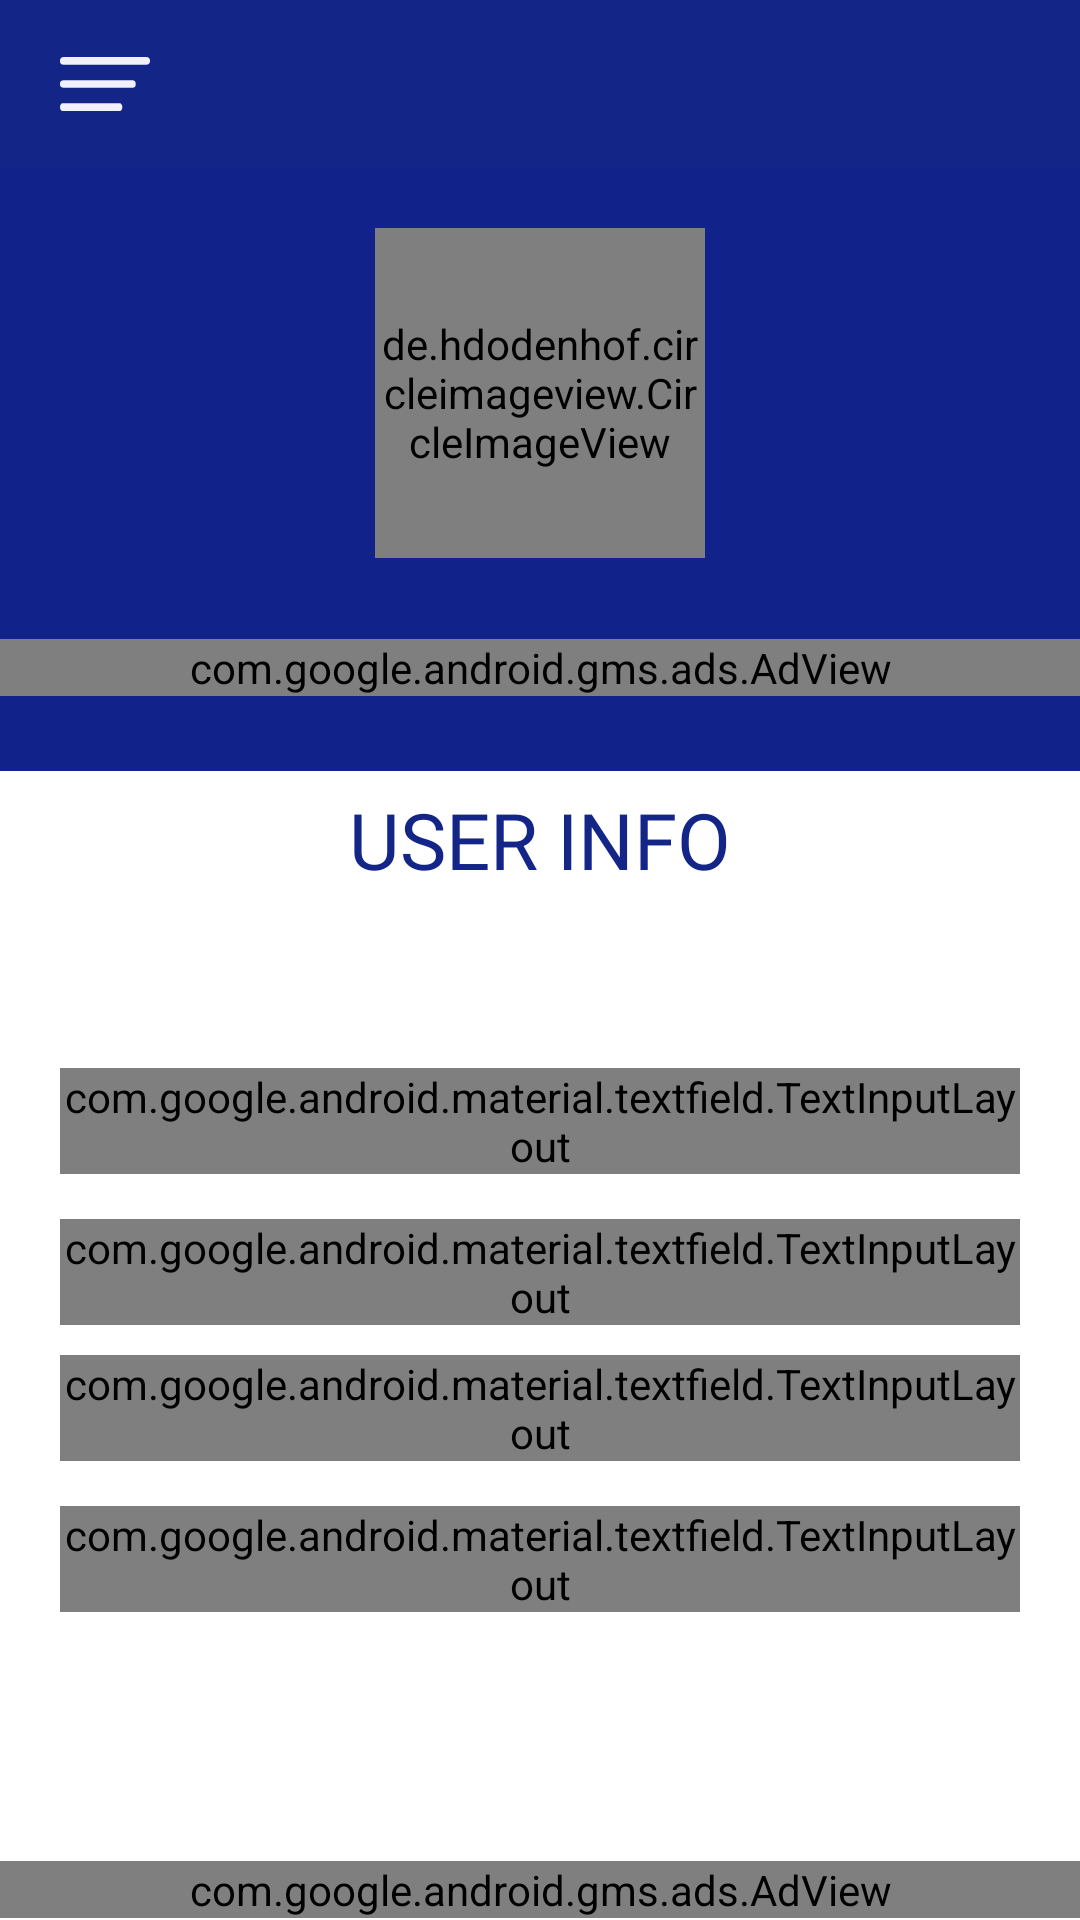

Icon bounding boxes for this 1080×1920 phone screenshot, format bbox=(x1, y1, x2, y2):
menu: bbox=(60, 57, 150, 111)
